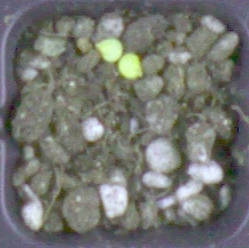pepper seed: (45, 12, 188, 92), (29, 4, 153, 69)
